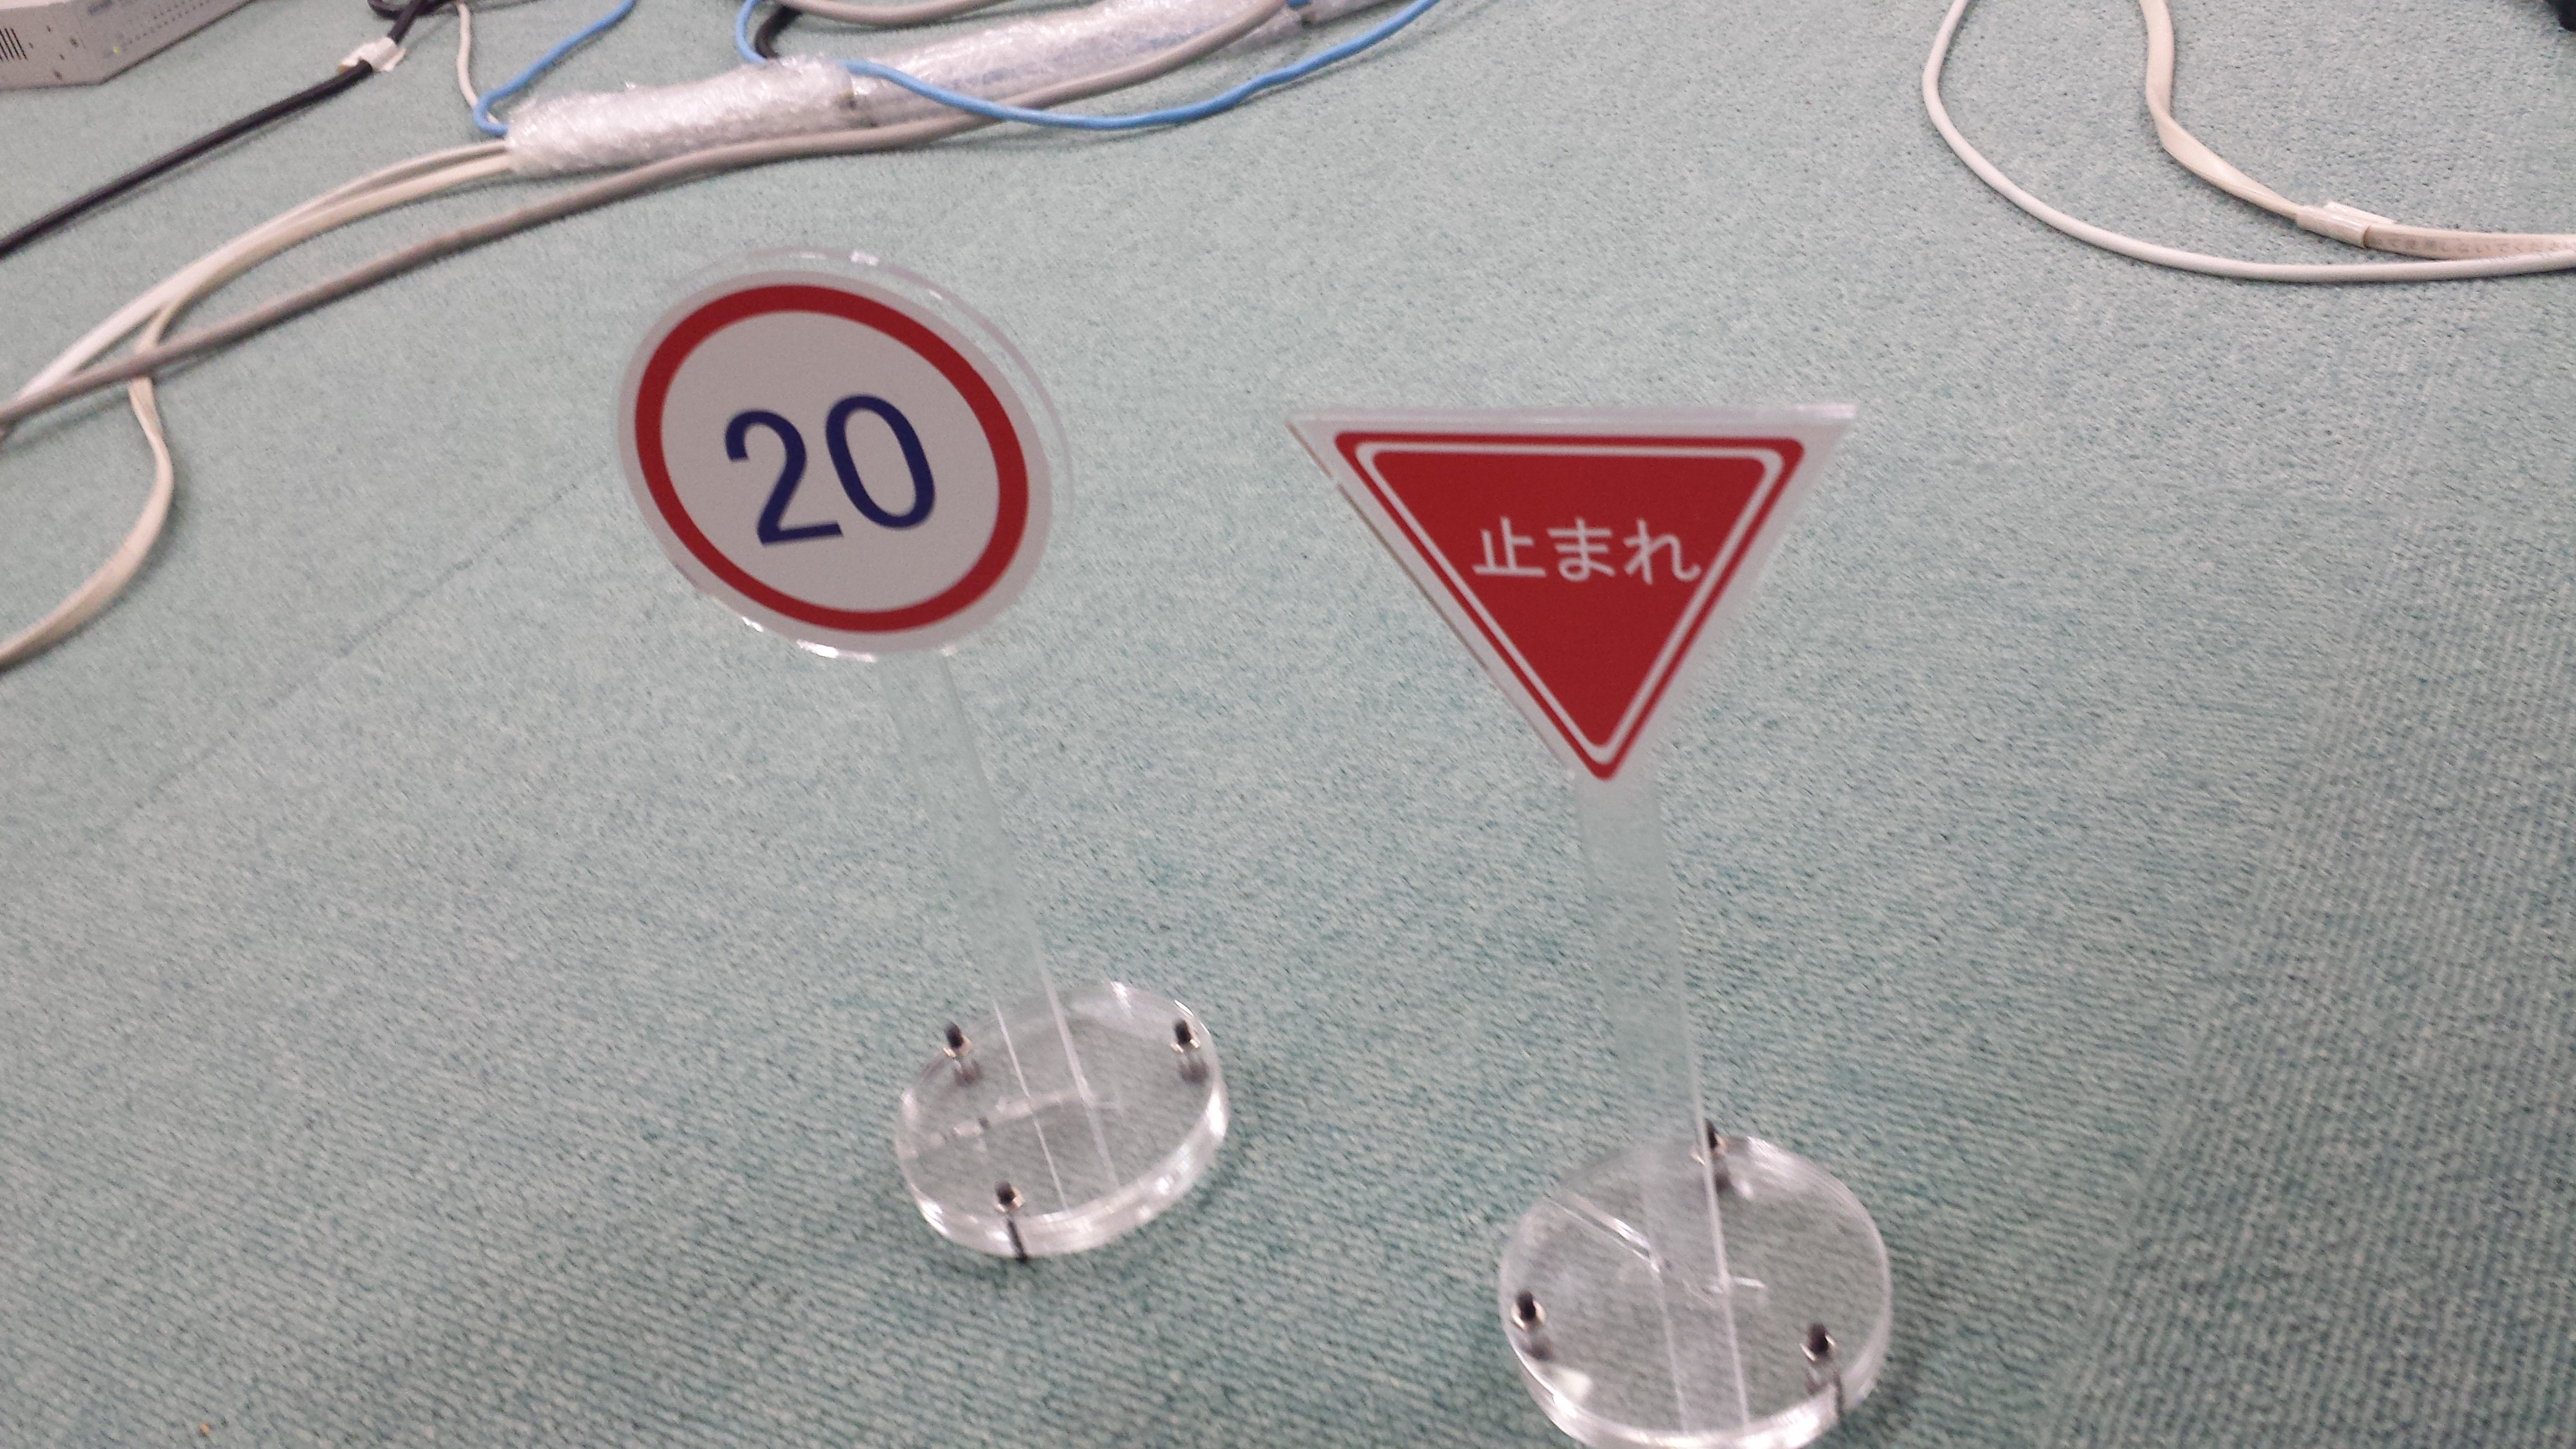speed_20: (594, 267, 1063, 655)
stop: (1290, 414, 1851, 803)
